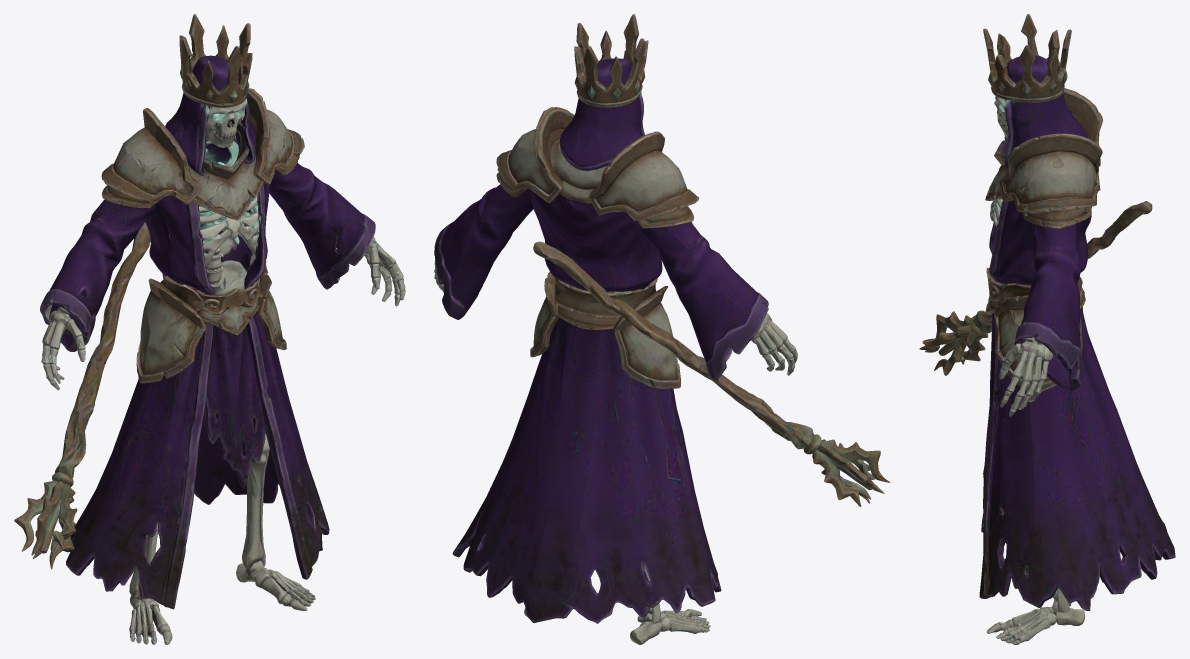
The model's file is whisper_king.glb.
3 renders of one model, left to right at view 1: azimuth 30°, elevation 25°; view 2: azimuth 150°, elevation 25°; view 3: azimuth 270°, elevation 25°, orthographic. The views are drawn at different scales.
Visible parts, largest first — view 1: Mesh_0; view 2: Mesh_0; view 3: Mesh_0.
Boxes of the visible parts, left/top/right/bottom form: Mesh_0: left=14, top=14, right=405, bottom=644; Mesh_0: left=434, top=14, right=890, bottom=644; Mesh_0: left=919, top=14, right=1175, bottom=644.
Size of the model in its own units: 1.41 by 1.91 by 0.772.
Materials: 1 (1 with a texture image).
